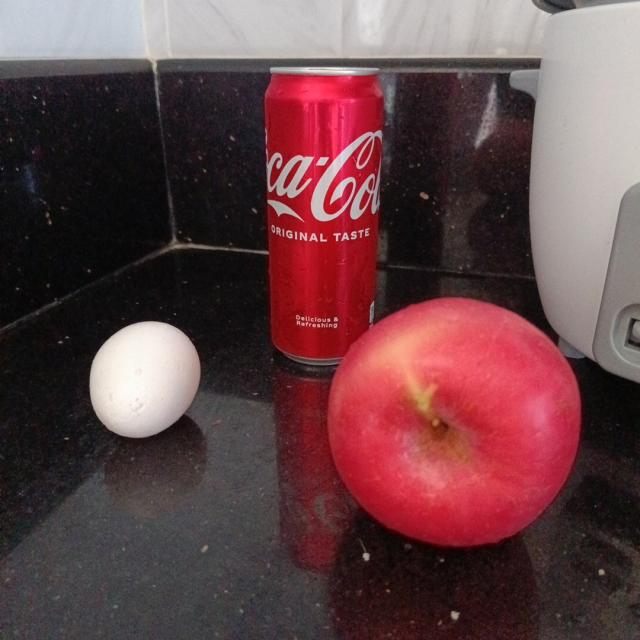apple: (324, 297, 578, 545)
coke: (268, 68, 386, 365)
egg: (89, 320, 201, 438)
